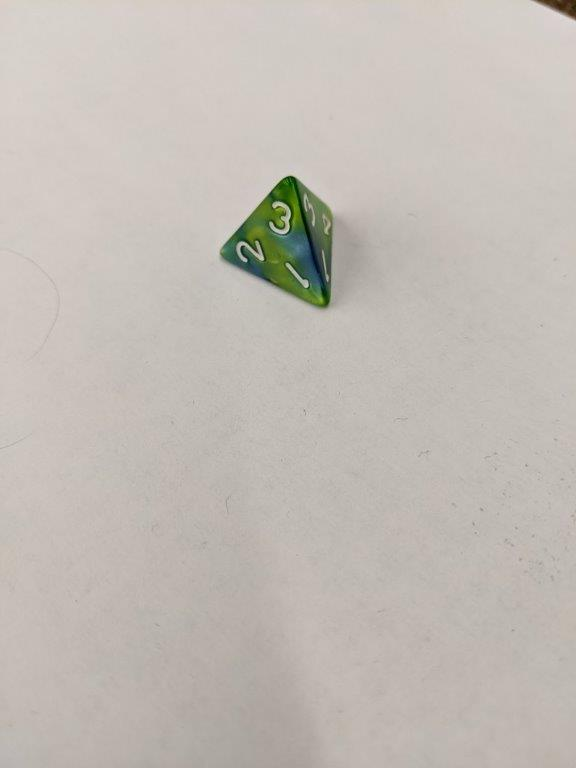d4-3: (210, 174, 337, 312)
